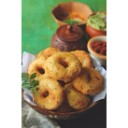vada: (45, 52, 82, 79), (35, 78, 64, 110), (74, 67, 105, 95), (63, 80, 91, 107), (28, 58, 52, 83)
